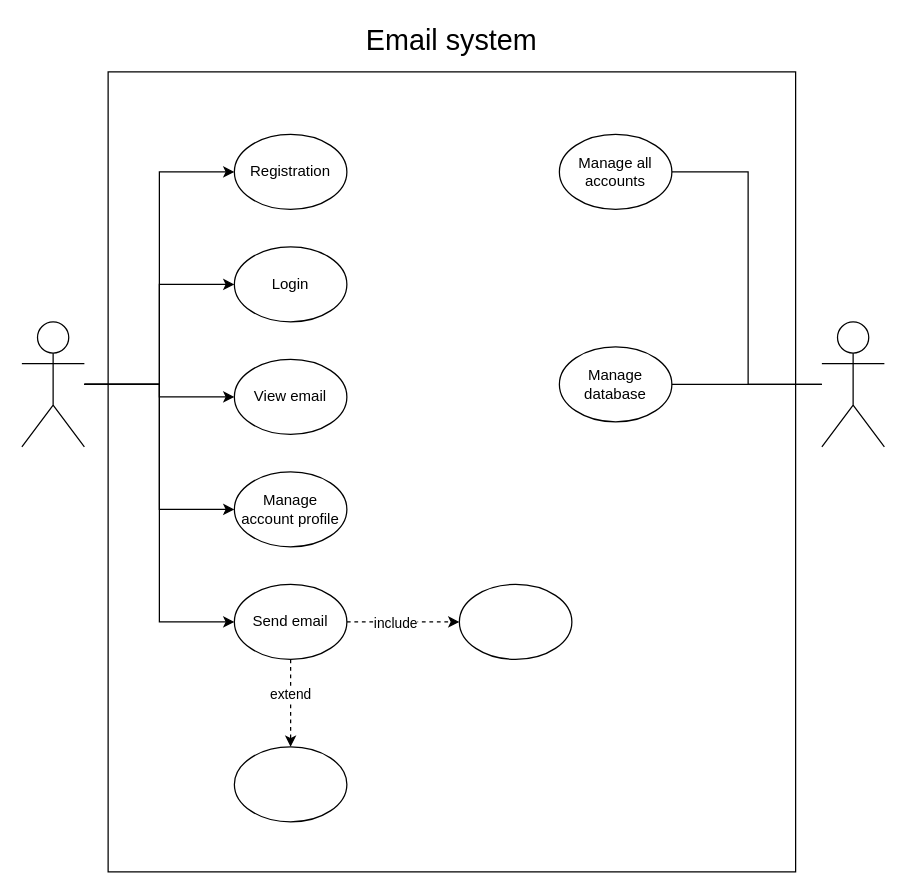
The diagram is 906 pixels wide and 894 high, and some of its shapes have lost their labels. Here are the shapes that lost their labels. From the top down, the box of each, then its label:
(21, 321, 84, 447): User
(821, 321, 884, 447): Admin
(458, 583, 572, 659): Compose email
(233, 746, 347, 822): Attach file
